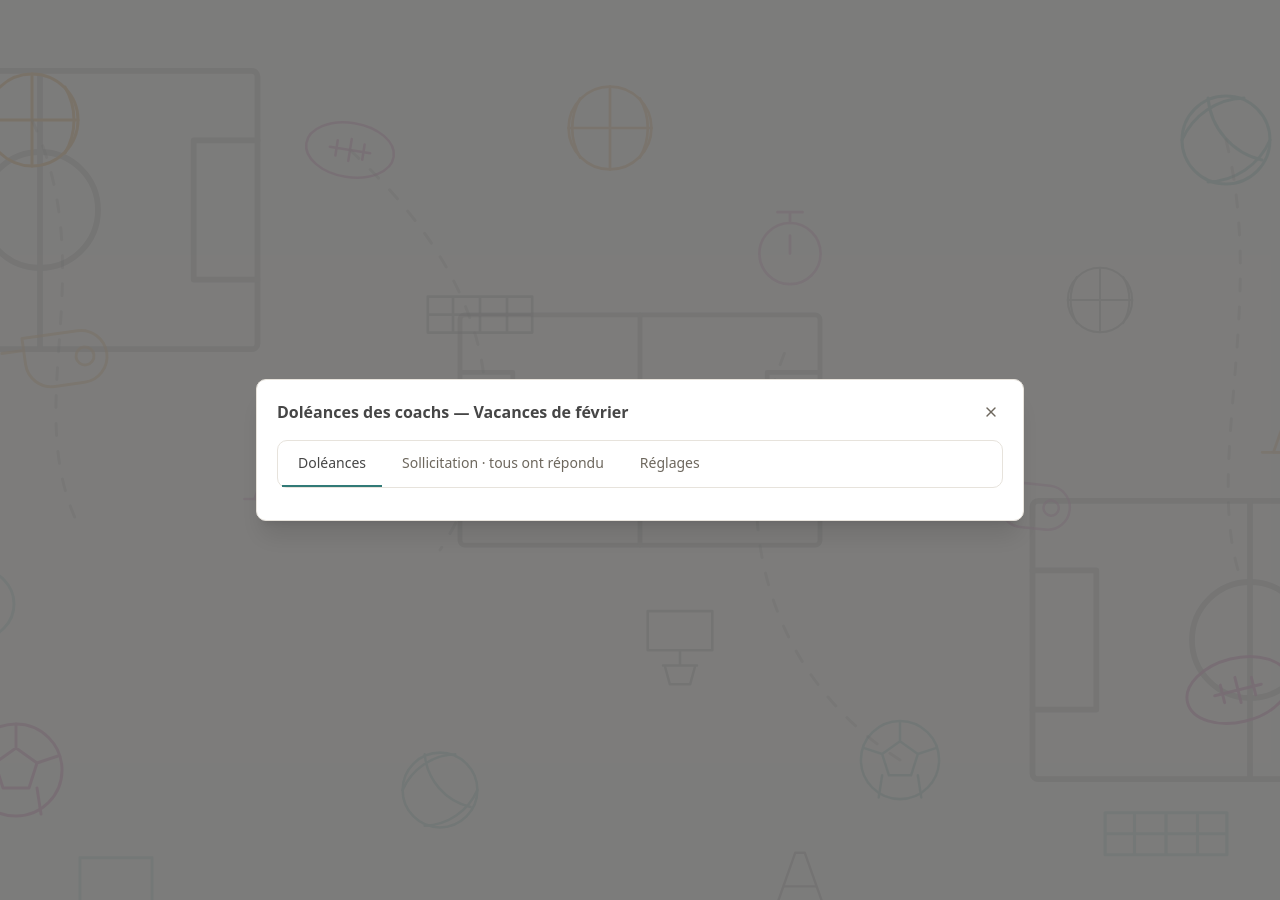
Test case: CoachWishesHub › ne compte dans le résumé que les équipes qui produiront un lien
The width and height of the screenshot is (1280, 900).
Click the tab "Réglages" at coordinates (670, 464), box [624, 441, 716, 487]
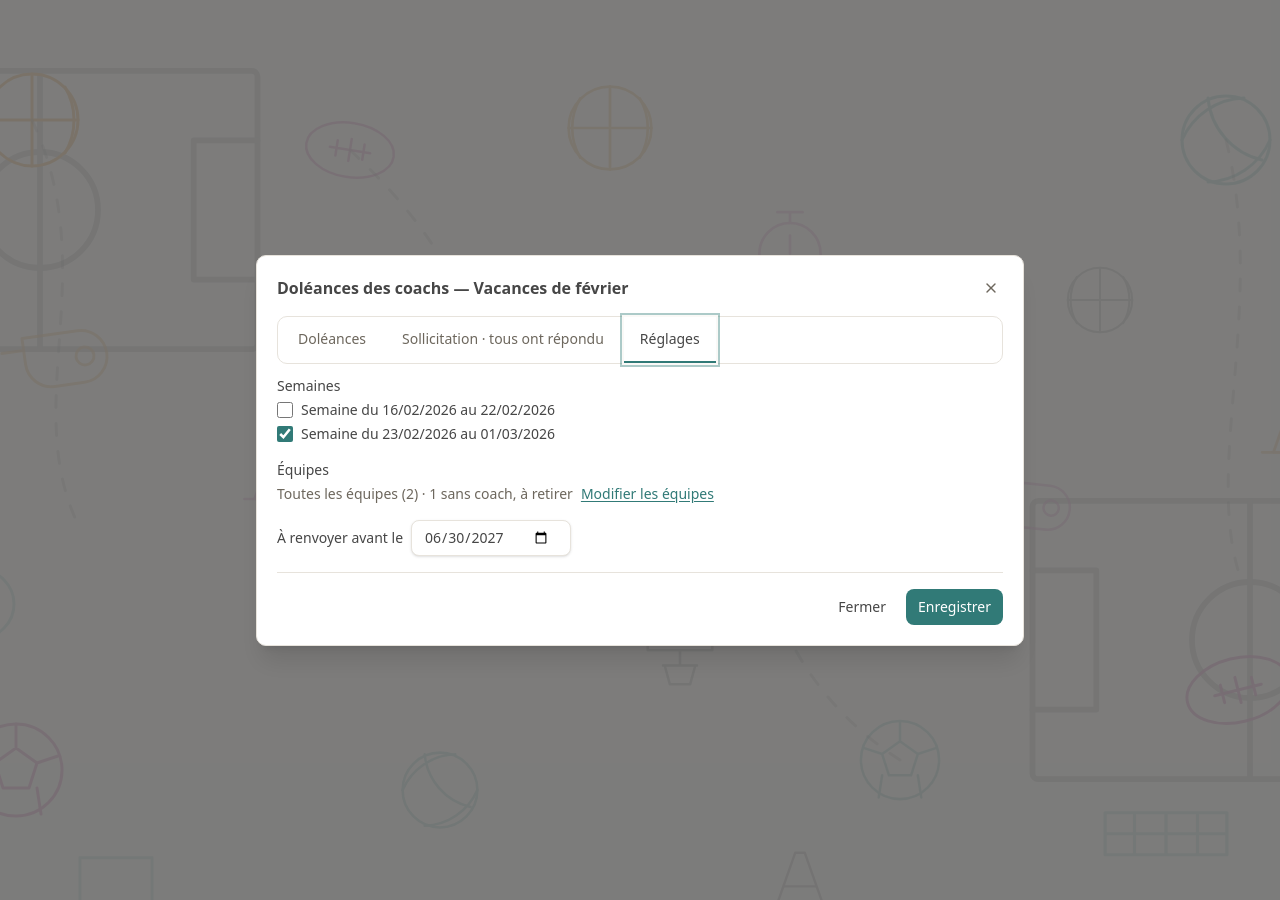
Result: the text "Toutes les équipes (2) · 1 sans coach, à retirer" is shown at [277, 484, 573, 504]
